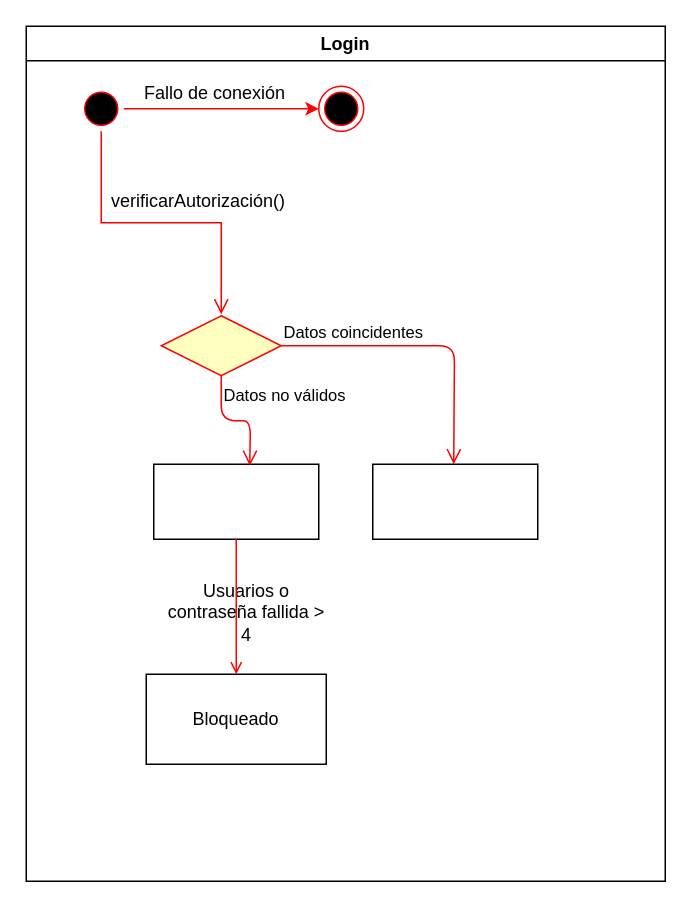
Some shapes in this 692 by 908 pixel diagram are drawn without their labels. Each missing label, with the centre of its shape:
"Ingresado/Activo" goes at pixel 454 501.
"Reintento" goes at pixel 235 501.
